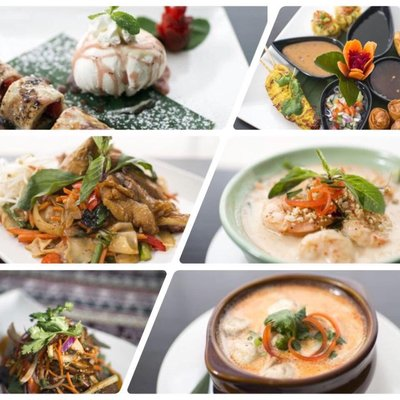sushi: (219, 144, 400, 265), (204, 273, 378, 392), (320, 78, 372, 130)
